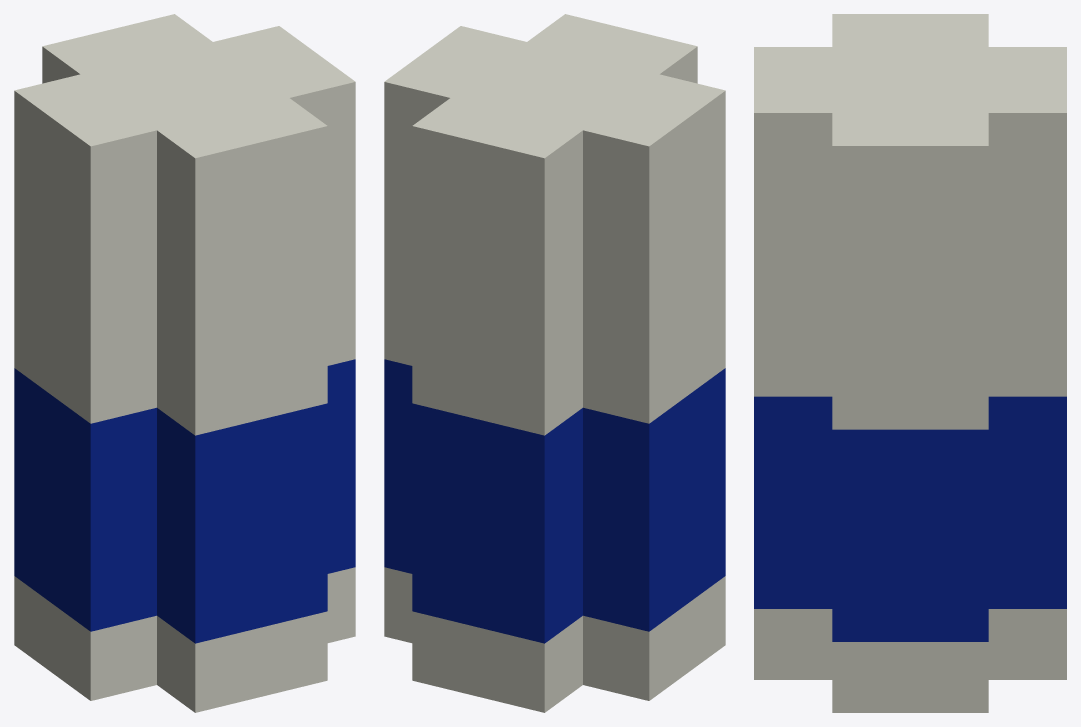
Rendered from antibiotics.glb.
3 renders of one model, left to right at view 1: azimuth 30°, elevation 25°; view 2: azimuth 150°, elevation 25°; view 3: azimuth 270°, elevation 25°, orthographic. The views are drawn at different scales.
Visible parts, largest first — view 1: body:vessel; view 2: body:vessel; view 3: body:vessel.
Part boxes in pixels (bbox=[...]): body:vessel: bbox=[14, 14, 355, 712]; body:vessel: bbox=[384, 14, 725, 712]; body:vessel: bbox=[754, 14, 1066, 712].
Bounding box in the file's own units: 0.04 × 0.08 × 0.04.
